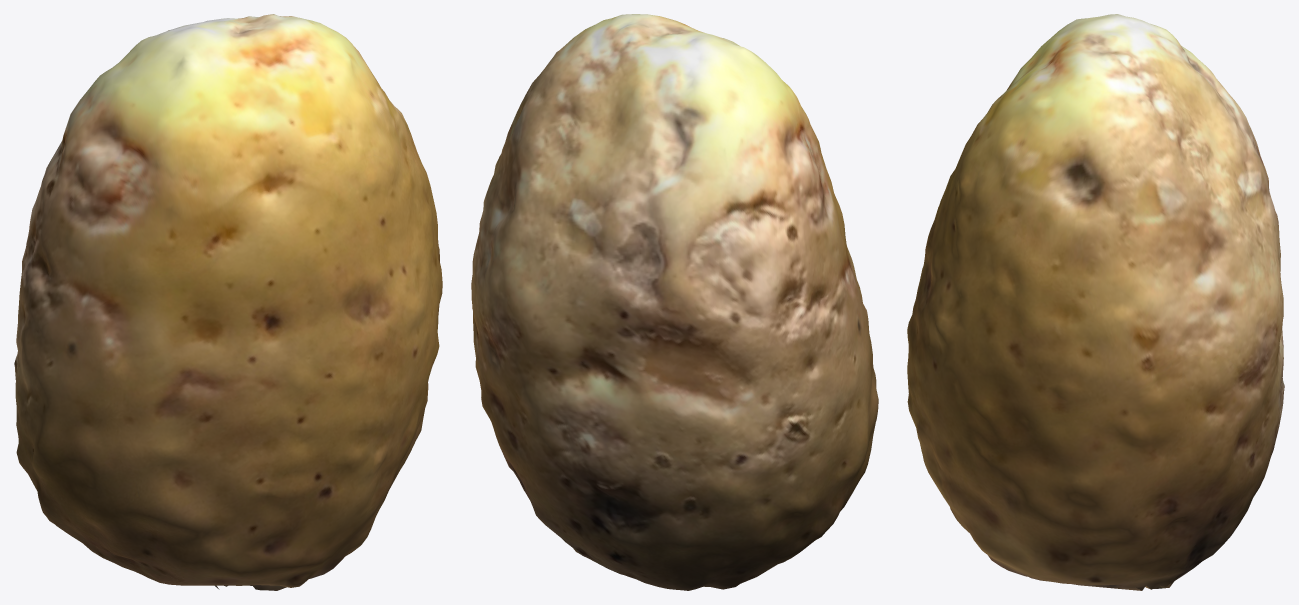
The model's file is Potato.obj.
The picture shows the model from 3 angles, left to right: view 1: azimuth 30°, elevation 25°; view 2: azimuth 150°, elevation 25°; view 3: azimuth 270°, elevation 25°; orthographic projection. The views are drawn at different scales.
Visible parts, largest first — view 1: Potato; view 2: Potato; view 3: Potato.
Boxes of the visible parts, x1=… form: Potato: x1=14, y1=14, x2=442, y2=590; Potato: x1=471, y1=14, x2=878, y2=590; Potato: x1=907, y1=14, x2=1284, y2=590.
Bounding box in the file's own units: 0.0521 × 0.0723 × 0.0452.
1 material, 1 textured.
